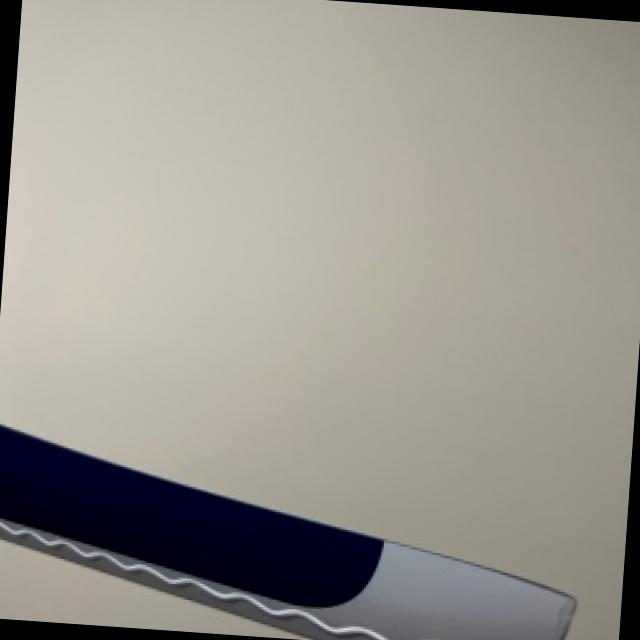healthy: (0, 421, 575, 640)
